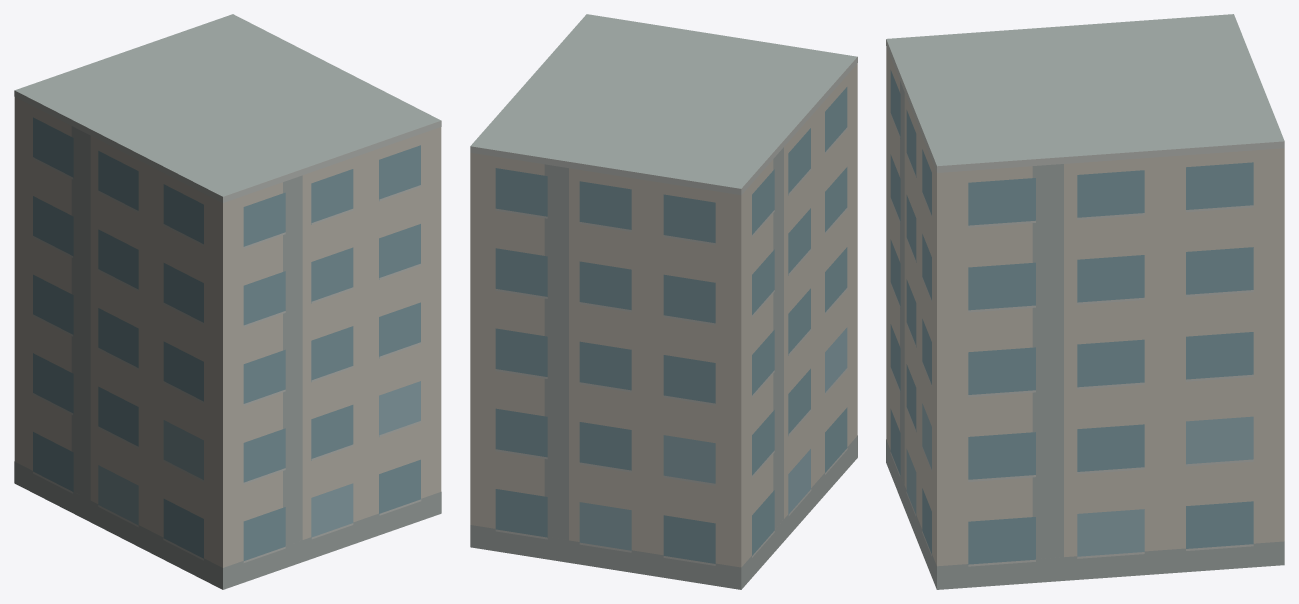
File: residential-50d30f2c-54a8-4f0a-aec7-c596cfbdb7ad.glb
3 renders of one model, left to right at view 1: azimuth 30°, elevation 25°; view 2: azimuth 150°, elevation 25°; view 3: azimuth 270°, elevation 25°, orthographic. The views are drawn at different scales.
Parts seen in each view (by area): view 1: residential-50d30f2c-54a8-4f0a-aec7-c596cfbdb7ad.tmp; view 2: residential-50d30f2c-54a8-4f0a-aec7-c596cfbdb7ad.tmp; view 3: residential-50d30f2c-54a8-4f0a-aec7-c596cfbdb7ad.tmp.
Part boxes in pixels (box(x1,y1,x2,y2)): residential-50d30f2c-54a8-4f0a-aec7-c596cfbdb7ad.tmp: box(14, 14, 441, 589); residential-50d30f2c-54a8-4f0a-aec7-c596cfbdb7ad.tmp: box(470, 14, 857, 589); residential-50d30f2c-54a8-4f0a-aec7-c596cfbdb7ad.tmp: box(886, 14, 1284, 589).
Bounding box in the file's own units: 11.76 × 15.25 × 13.01.
